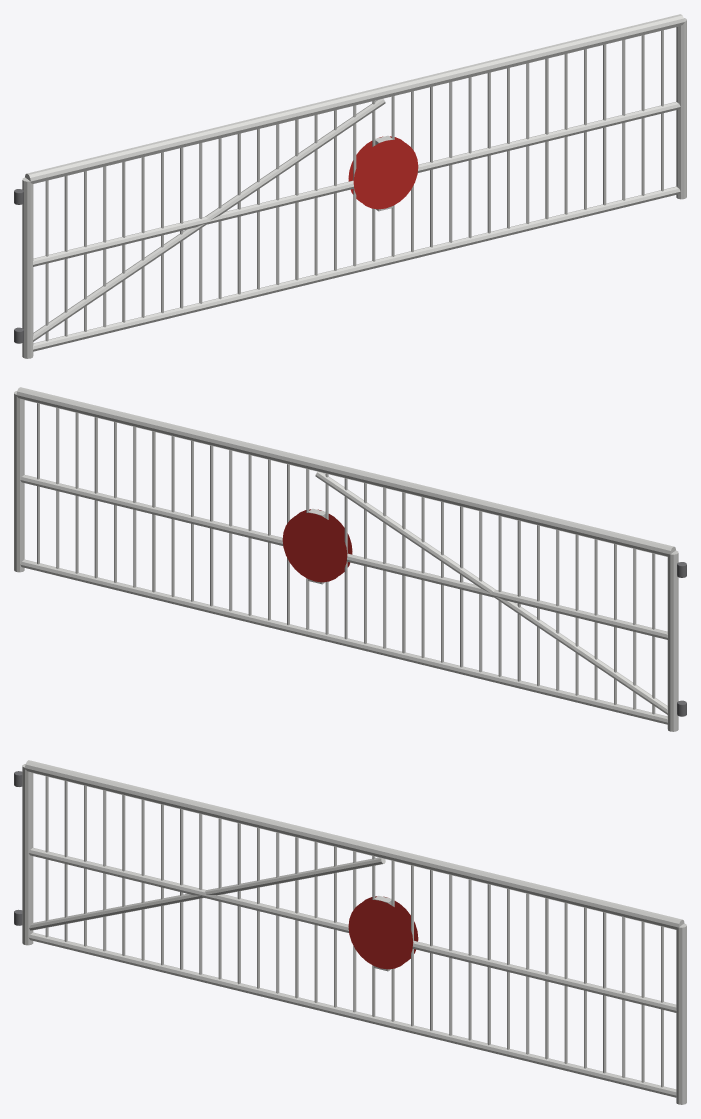
The model's file is lx_gate_45.glb.
The picture shows the model from 3 angles, top to bottom: view 1: azimuth 30°, elevation 25°; view 2: azimuth 150°, elevation 25°; view 3: azimuth 330°, elevation 25°; orthographic projection.
Parts seen in each view (by area): view 1: SM_lx_gate_45; view 2: SM_lx_gate_45; view 3: SM_lx_gate_45.
Part boxes in pixels (left/top/right/bottom): SM_lx_gate_45: left=14, top=14, right=686, bottom=358; SM_lx_gate_45: left=14, top=387, right=686, bottom=731; SM_lx_gate_45: left=14, top=760, right=686, bottom=1104.
Size of the model in its own units: 4.56 by 1.18 by 0.07.
